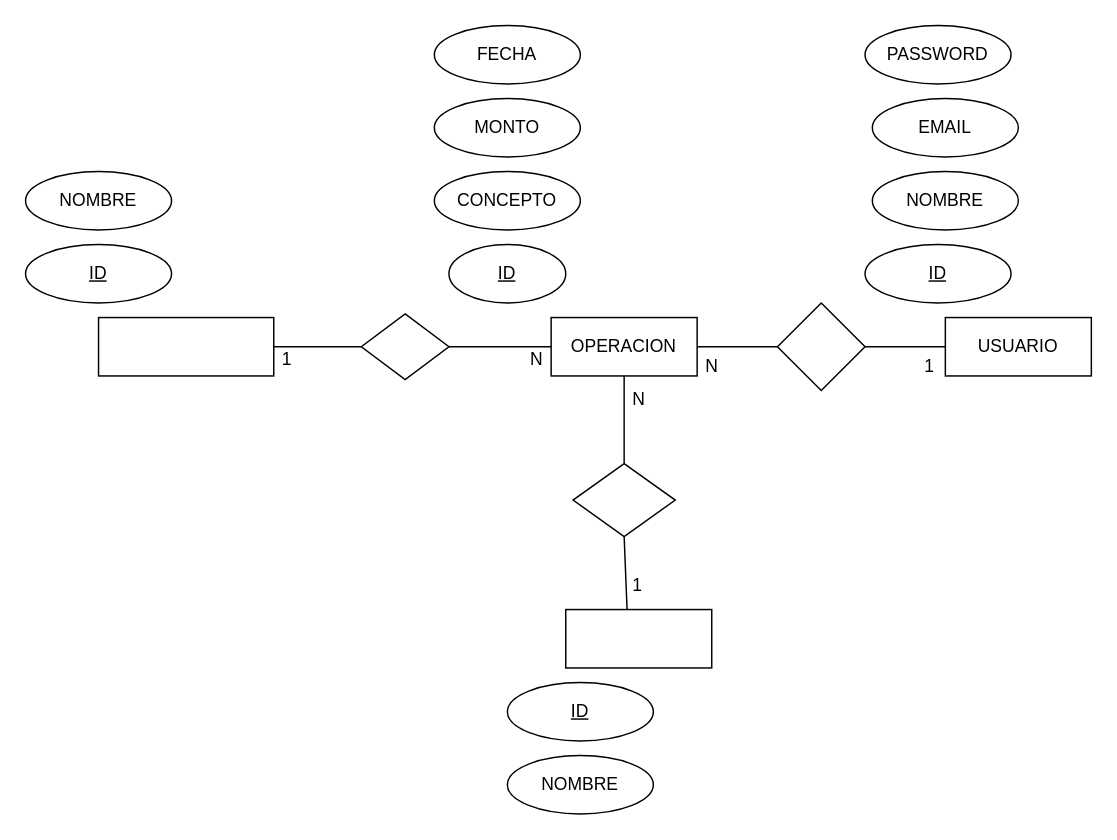
Some shapes in this 1117 by 840 pixel diagram are drawn without their labels. Here are the shapes that lost their labels. From the top down, the centre of each, then its label:
At point 185,346: "TIPO_OPERACION".
At point 638,638: "CATEGORIA".
